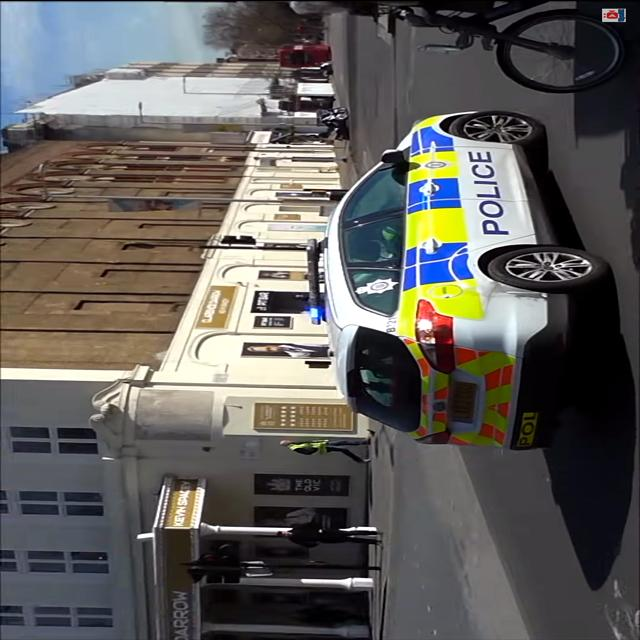emergency-vehicles: (302, 102, 604, 474)
